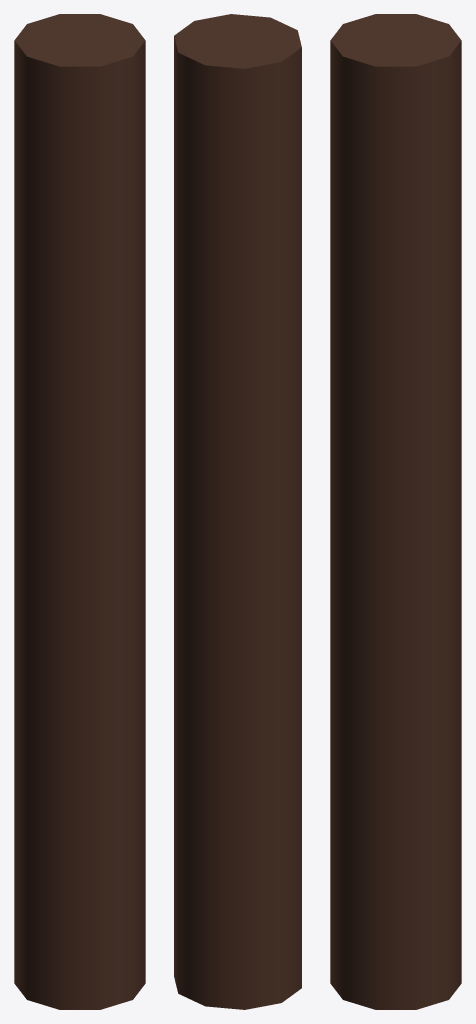
The model's file is cerquinha2.fbx.
The picture shows the model from 3 angles, left to right: view 1: azimuth 90°, elevation 25°; view 2: azimuth 150°, elevation 25°; view 3: azimuth 270°, elevation 25°; orthographic projection.
Visible parts, largest first — view 1: Cylinder.001; view 2: Cylinder.001; view 3: Cylinder.001.
Part boxes in pixels (bbox=[...]): Cylinder.001: bbox=[14, 14, 145, 1009]; Cylinder.001: bbox=[174, 14, 301, 1009]; Cylinder.001: bbox=[330, 14, 461, 1009].
Size of the model in its own units: 14.51 by 121 by 15.26.
